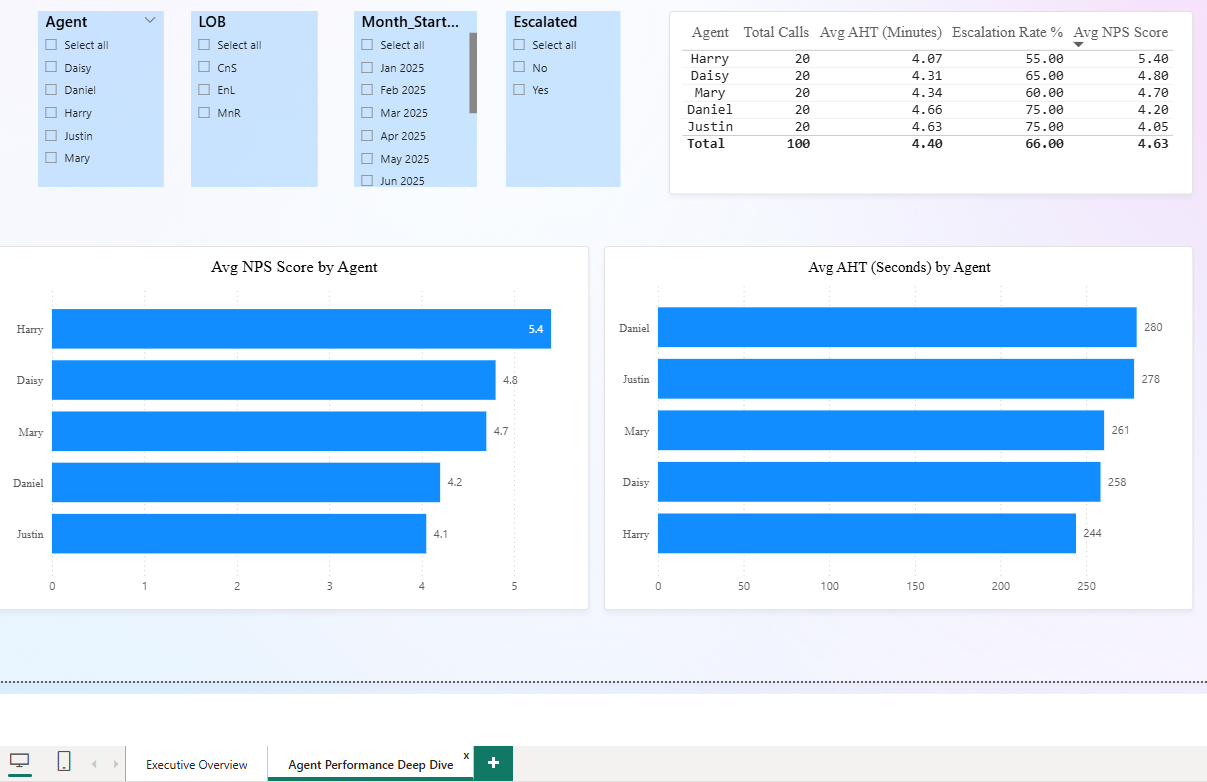

The dashboard page shown, as its layout file describes it:
{"tool":"powerbi","page":{"name":"Page 2","canvas":[1280,720],"ordinal":1},"visuals":[{"type":"tableEx","fields":{"Values":["call_center_data.Agent","call_center_data.Total Calls","call_center_data.Avg AHT (Minutes)","call_center_data.Escalation Rate %","call_center_data.Avg NPS"]},"box":[709.3,13,553.7,193.5],"z":0},{"type":"barChart","title":"Avg NPS Score by Agent","fields":{"Category":["call_center_data.Agent"],"Y":["call_center_data.Avg NPS"]},"box":[0,261.4,624.5,385.1],"z":1000},{"type":"clusteredBarChart","fields":{"Category":["call_center_data.Agent"],"Y":["call_center_data.Avg AHT (Seconds)"]},"box":[640.5,261.4,622.5,385.1],"z":2000},{"type":"slicer","fields":{"Values":["call_center_data.Agent"]},"box":[42.1,12.5,132.5,186.3],"z":3000},{"type":"slicer","fields":{"Values":["call_center_data.Escalated"]},"box":[537.3,12.5,120.9,186.3],"z":4000},{"type":"slicer","fields":{"Values":["call_center_data.Month-Year"]},"box":[376.1,12.5,129.9,186.3],"z":5000},{"type":"slicer","fields":{"Values":["call_center_data.LOB"]},"box":[204.2,12.5,134.3,186.3],"z":6000}]}

Visuals, with their boxes on the page's 1280x720 design canvas (x1, y1, x2, y2). These are canvas units, not pixel positions in the 1207x782 screenshot, which may show the page scaled, cropped or inside an application window:
tableEx - call_center_data.Agent x call_center_data.Total Calls: 709,13,1263,206
"Avg NPS Score by Agent" barChart: 0,261,624,646
clusteredBarChart - call_center_data.Agent x call_center_data.Avg AHT (Seconds): 640,261,1263,646
slicer - call_center_data.Agent: 42,12,175,199
slicer - call_center_data.Escalated: 537,12,658,199
slicer - call_center_data.Month-Year: 376,12,506,199
slicer - call_center_data.LOB: 204,12,338,199
